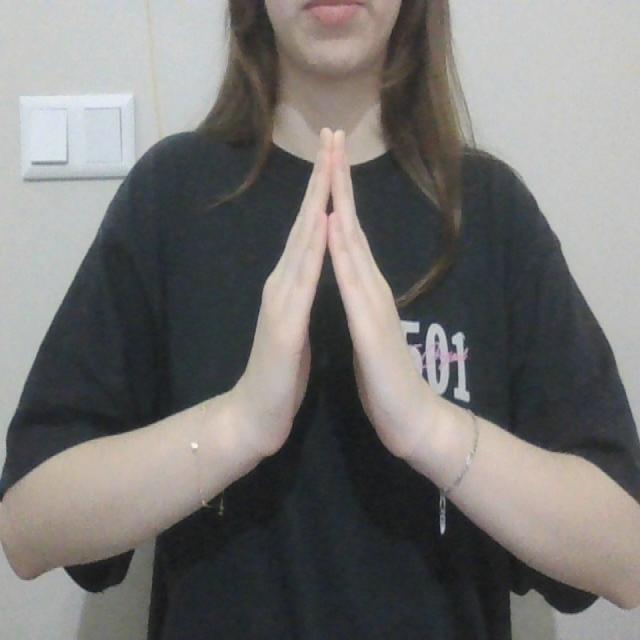Ev: (233, 124, 448, 472)
